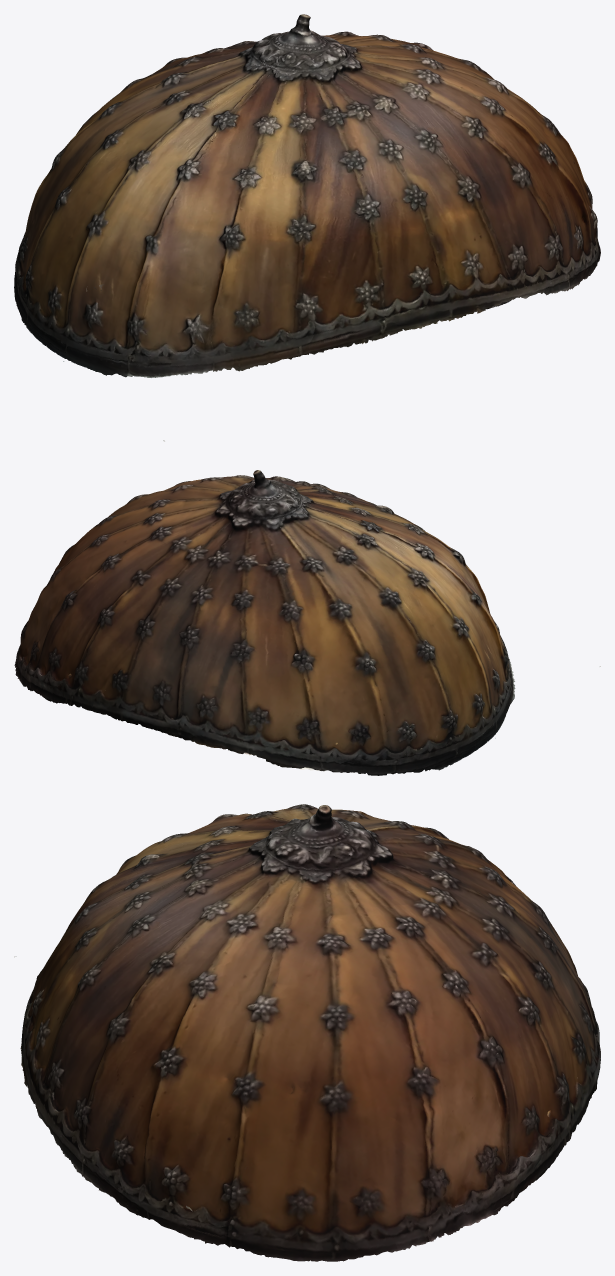
File: salakot.glb
3 renders of one model, top to bottom at view 1: azimuth 30°, elevation 25°; view 2: azimuth 150°, elevation 25°; view 3: azimuth 270°, elevation 25°, orthographic. The views are drawn at different scales.
Parts seen in each view (by area): view 1: Object_4; view 2: Object_4; view 3: Object_4.
Part boxes in pixels (x1,y1,x2,y2): Object_4: [14, 14, 600, 441]; Object_4: [14, 470, 600, 775]; Object_4: [14, 804, 600, 1261].
Bounding box in the file's own units: 26 × 12.47 × 21.13.
Materials: 2 (2 with a texture image).
